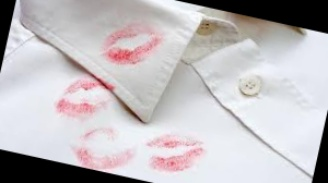lipstick: (100, 13, 165, 78), (142, 138, 207, 183), (76, 133, 139, 178), (45, 87, 104, 129), (60, 68, 121, 106), (147, 122, 203, 159), (86, 120, 122, 147)
